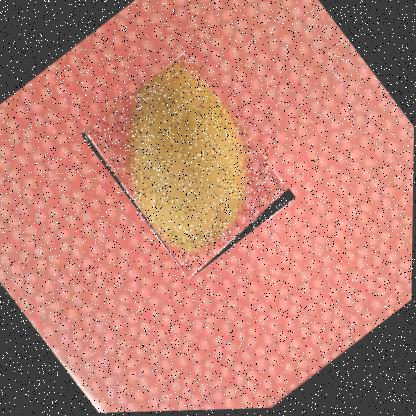mango: (77, 49, 298, 283)
